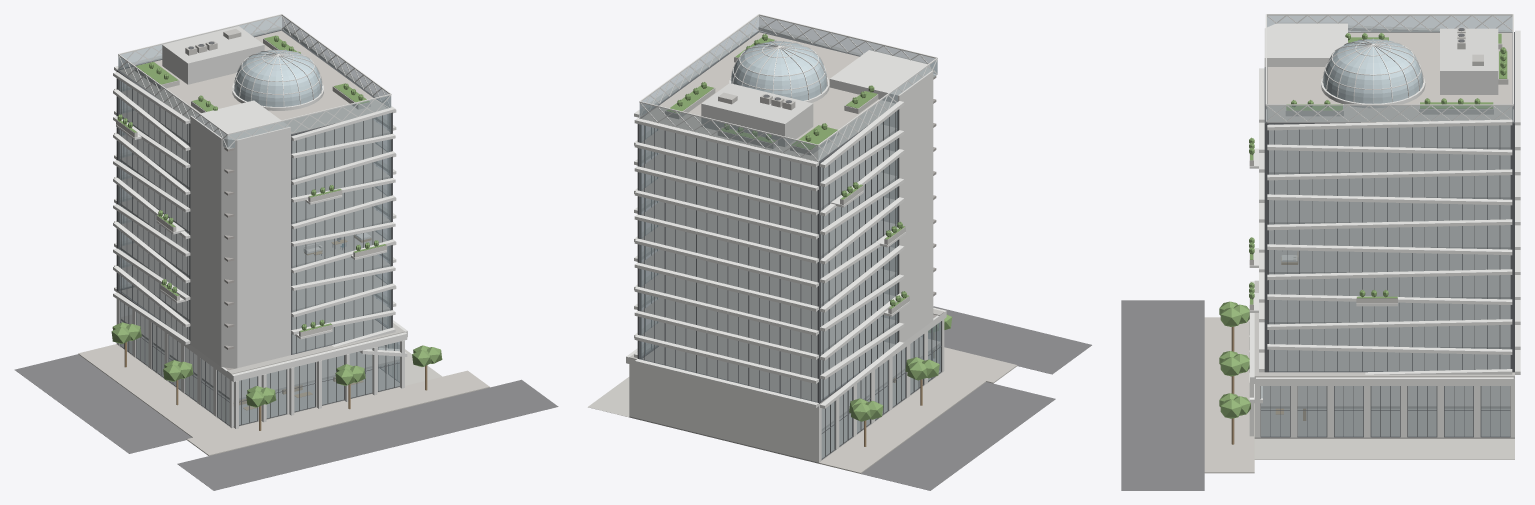
File: clay-student-residence-tower-clay-v001.glb
3 views of the same model, side by side, from view 1: azimuth 30°, elevation 25°; view 2: azimuth 150°, elevation 25°; view 3: azimuth 270°, elevation 25° (orthographic). The views are drawn at different scales.
Visible parts, largest first — view 1: CLAY_GLASS, CLAY_FLOOR, CLAY_WALL, CLAY_WHITE, CLAY_ASPHALT, CLAY_SAND, CLAY_TRIM, CLAY_PLANTING, CLAY_FOUNDATION, CLAY_DOMEGLASS, CLAY_PALE, CLAY_CONCRETE (+2 smaller); view 2: CLAY_GLASS, CLAY_FLOOR, CLAY_WHITE, CLAY_ASPHALT, CLAY_SAND, CLAY_WALL, CLAY_TRIM, CLAY_DOMEGLASS, CLAY_PALE, CLAY_PLANTING, CLAY_CONCRETE, CLAY_FOUNDATION (+1 smaller); view 3: CLAY_GLASS, CLAY_FLOOR, CLAY_WHITE, CLAY_ASPHALT, CLAY_SAND, CLAY_TRIM, CLAY_CONCRETE, CLAY_FOUNDATION, CLAY_DOMEGLASS, CLAY_PLANTING, CLAY_PALE, CLAY_WALL (+2 smaller).
Part boxes in pixels (x1,y1,x2,y2): CLAY_GLASS: (118, 15, 399, 425); CLAY_FLOOR: (120, 89, 399, 400); CLAY_WALL: (190, 100, 290, 368); CLAY_WHITE: (113, 14, 407, 428); CLAY_ASPHALT: (14, 354, 558, 490); CLAY_SAND: (78, 30, 489, 455); CLAY_TRIM: (116, 29, 399, 426); CLAY_PLANTING: (111, 35, 442, 407); CLAY_FOUNDATION: (119, 338, 399, 426); CLAY_DOMEGLASS: (234, 50, 322, 106); CLAY_PALE: (162, 26, 370, 238); CLAY_CONCRETE: (116, 38, 441, 385); CLAY_GLASS: (639, 16, 940, 458); CLAY_FLOOR: (641, 76, 940, 430); CLAY_WHITE: (626, 14, 946, 462); CLAY_ASPHALT: (861, 306, 1091, 490); CLAY_SAND: (641, 32, 1017, 473); CLAY_WALL: (829, 49, 933, 343); CLAY_TRIM: (637, 31, 941, 459); CLAY_DOMEGLASS: (731, 41, 826, 100); CLAY_PALE: (701, 83, 813, 146); CLAY_PLANTING: (666, 34, 952, 421); CLAY_CONCRETE: (587, 37, 909, 417); CLAY_FOUNDATION: (629, 370, 942, 463); CLAY_GLASS: (1261, 15, 1513, 436); CLAY_FLOOR: (1261, 124, 1510, 408); CLAY_WHITE: (1249, 14, 1520, 437); CLAY_ASPHALT: (1121, 300, 1204, 490); CLAY_SAND: (1204, 32, 1512, 473); CLAY_TRIM: (1260, 32, 1514, 437); CLAY_CONCRETE: (1249, 34, 1514, 459); CLAY_FOUNDATION: (1254, 408, 1514, 438); CLAY_DOMEGLASS: (1323, 39, 1422, 103); CLAY_PLANTING: (1219, 33, 1507, 418); CLAY_PALE: (1282, 28, 1498, 260); CLAY_WALL: (1264, 22, 1347, 66).
Bounding box in the file's own units: 58 × 46.74 × 47.9.
